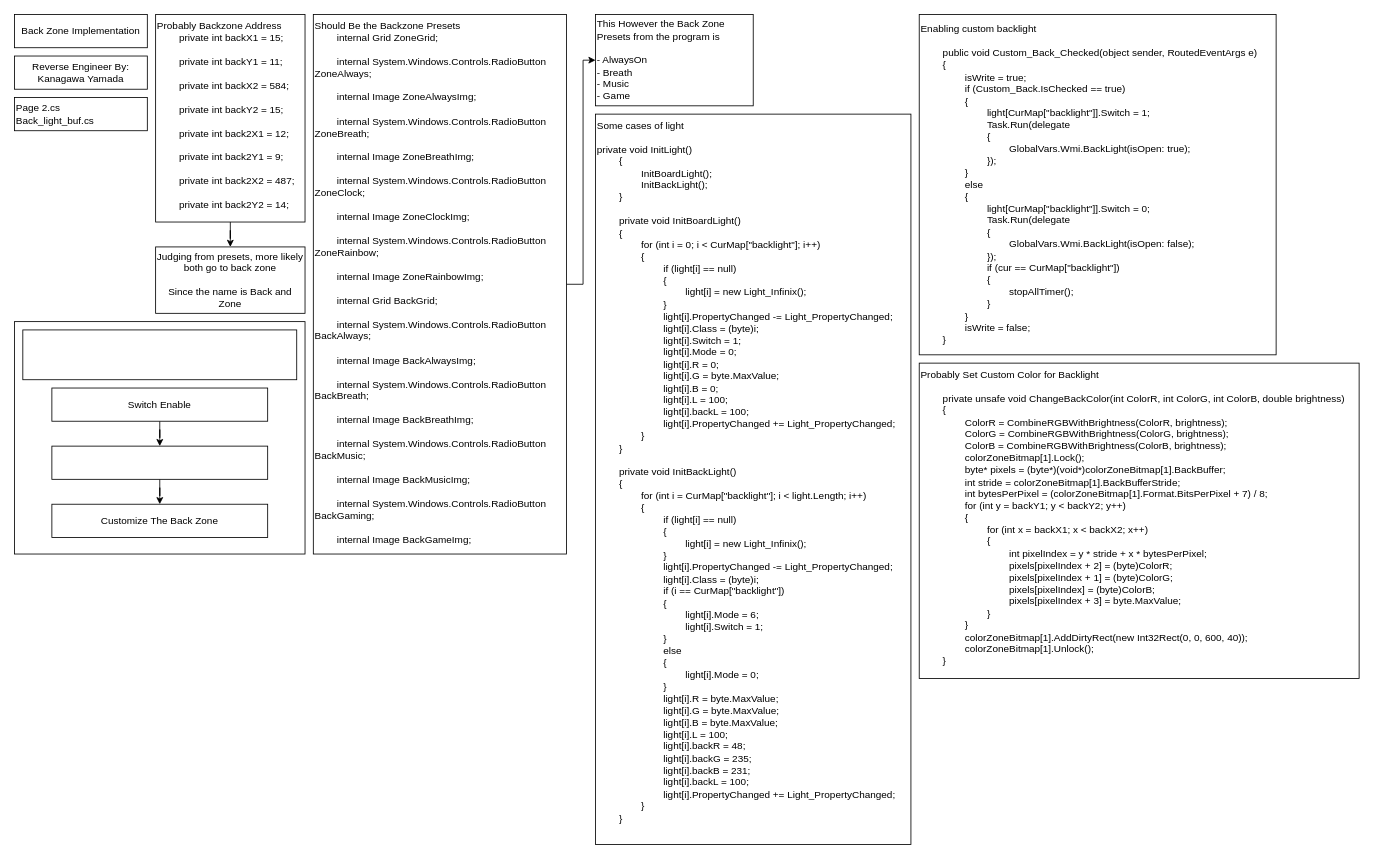
Image size: 1374x859. Some labels were removed from this diagram. Here are the shapes that lost their labels. From the top down, the centre of each, then its label:
the point at 159,354: Behaviour To Enable / Disable Back Zone Original From Software
the point at 159,462: Switch Custom
